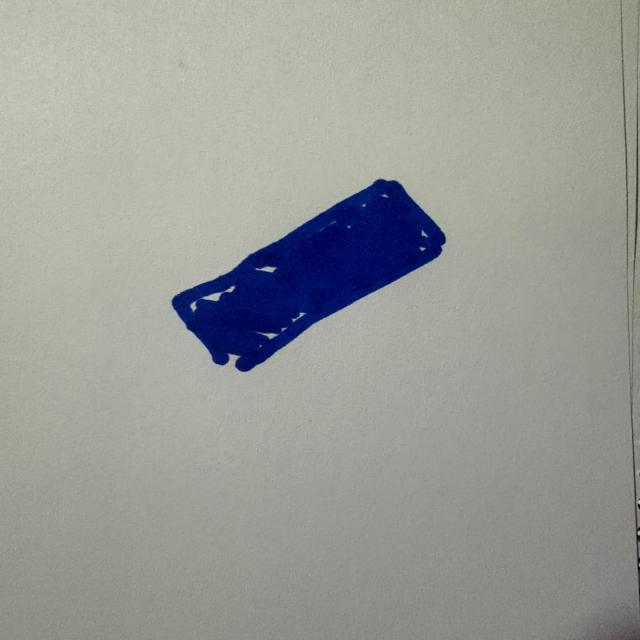Rectangle: (146, 164, 468, 386)
